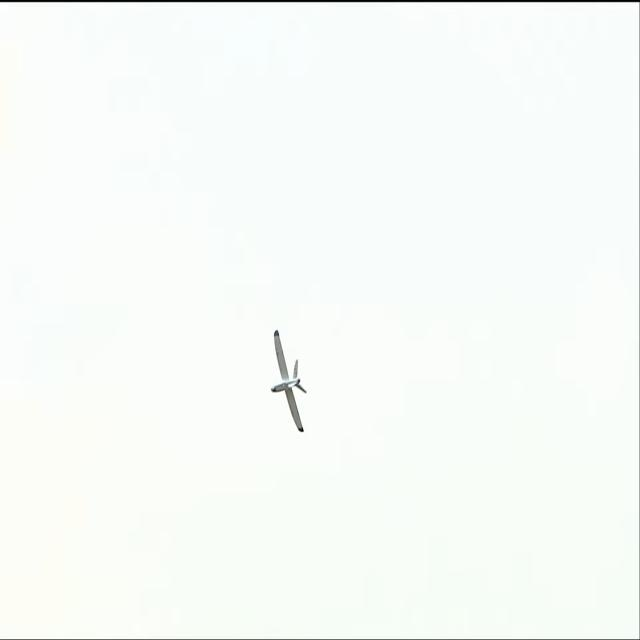iha: (270, 364, 307, 399)
